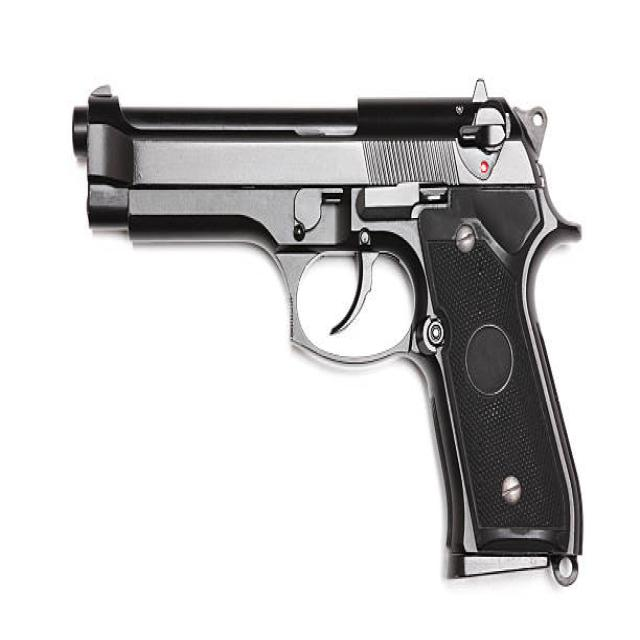pistol: (56, 69, 605, 597)
